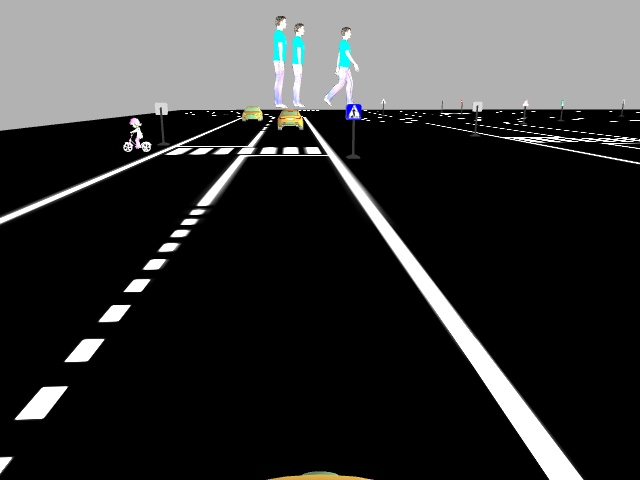Crosswalk: (343, 101, 363, 120)
Pedestrian: (120, 114, 152, 154)
